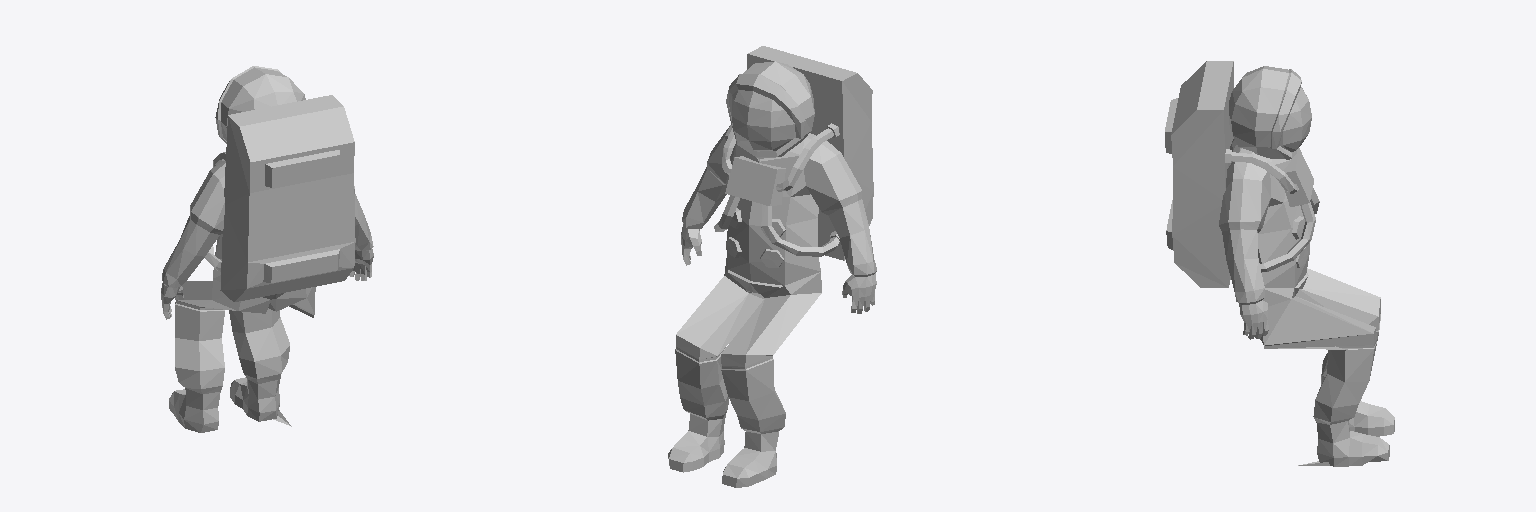
The model's file is astro.obj.
The picture shows the model from 3 angles: view 1: azimuth 30°, elevation 25°; view 2: azimuth 150°, elevation 25°; view 3: azimuth 270°, elevation 25°; orthographic projection.
Visible parts, largest first — view 1: AstroNeu; view 2: AstroNeu; view 3: AstroNeu.
Part boxes in pixels (x1,y1,x2,y2): AstroNeu: (161,66,373,432); AstroNeu: (668,46,876,487); AstroNeu: (1165,61,1394,466).
Size of the model in its own units: 0.392 by 0.7025 by 0.391.